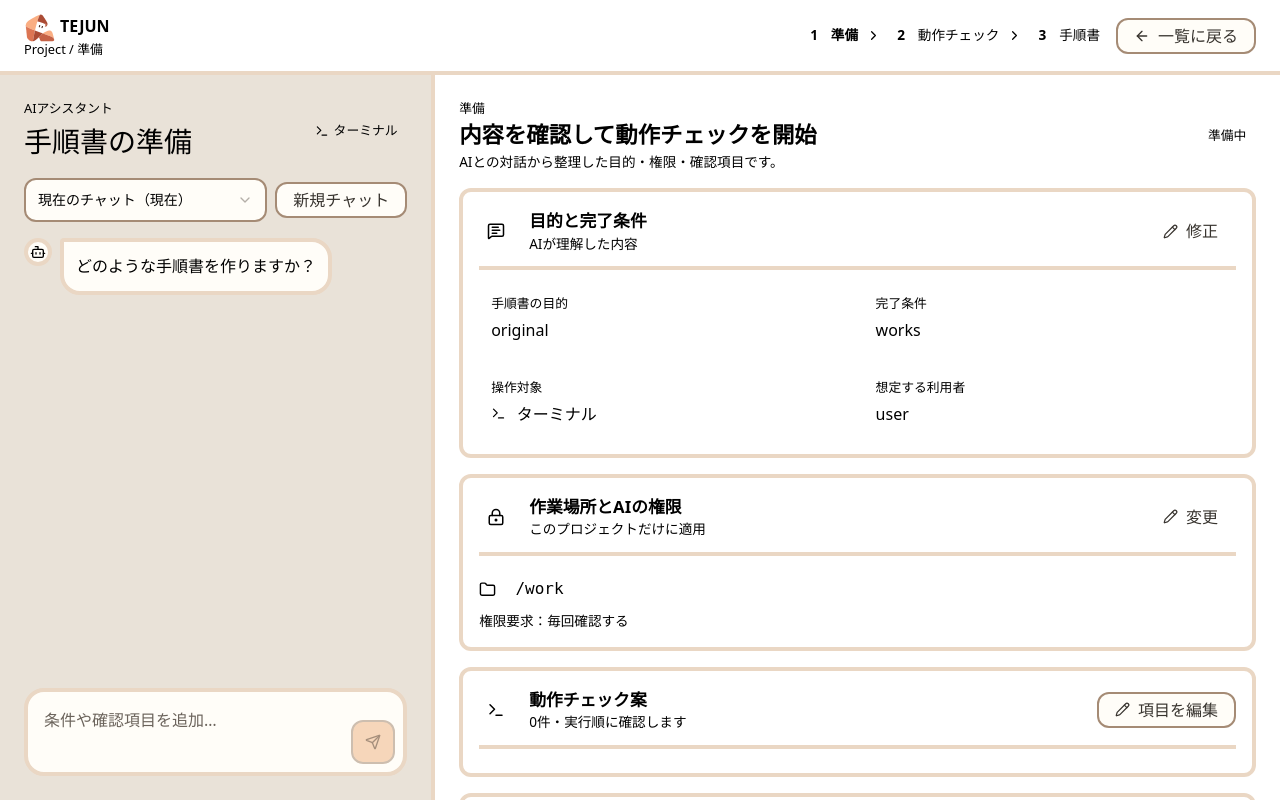
Agentの設定は作業場所の変更時だけ表示する
The image size is (1280, 800).
Expected: the text "Agentのモード" is not shown
Expected: the text "Agentの設定" is not shown
Click the button "変更".
click(1190, 517)  # box [1145,499,1236,535]
(page scrolled)
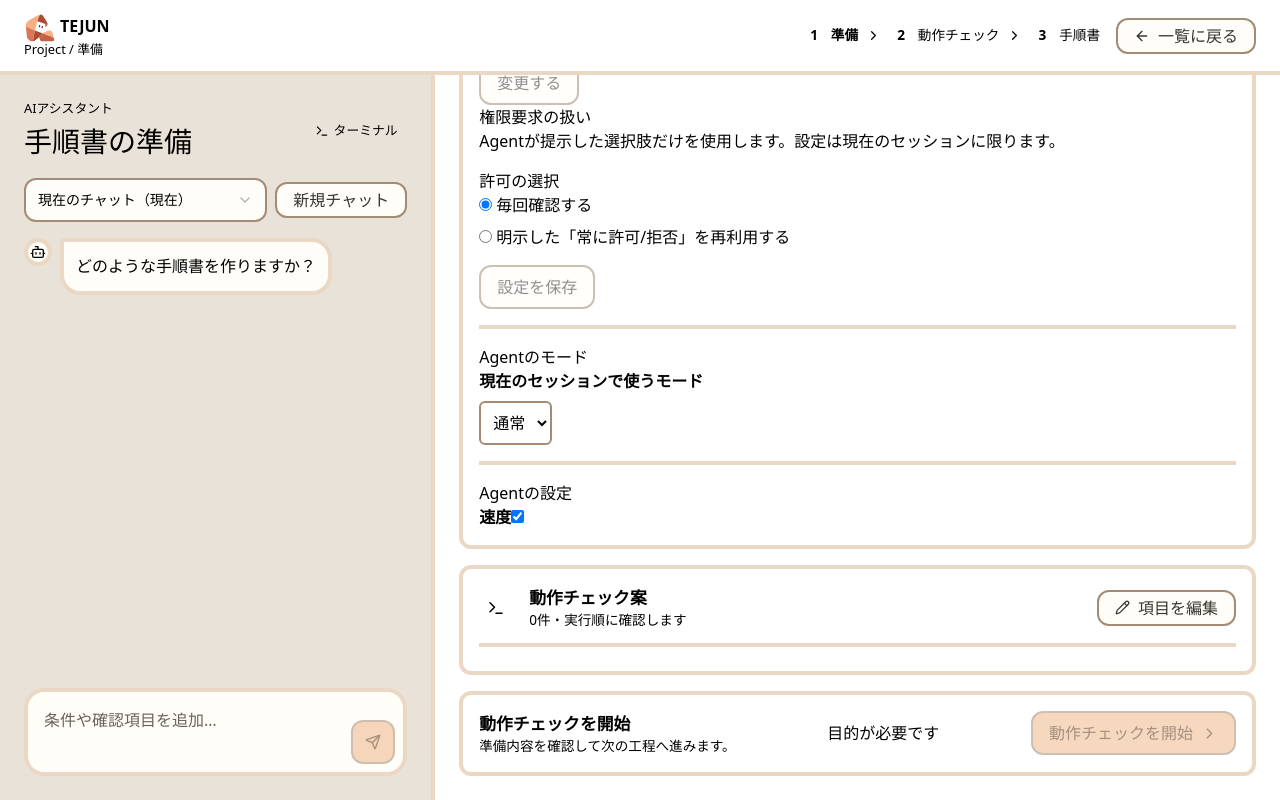
Now the heading "Agentのモード" is shown, box [479,346,588,368]
Now the heading "Agentの設定" is shown, box [479,482,572,504]
